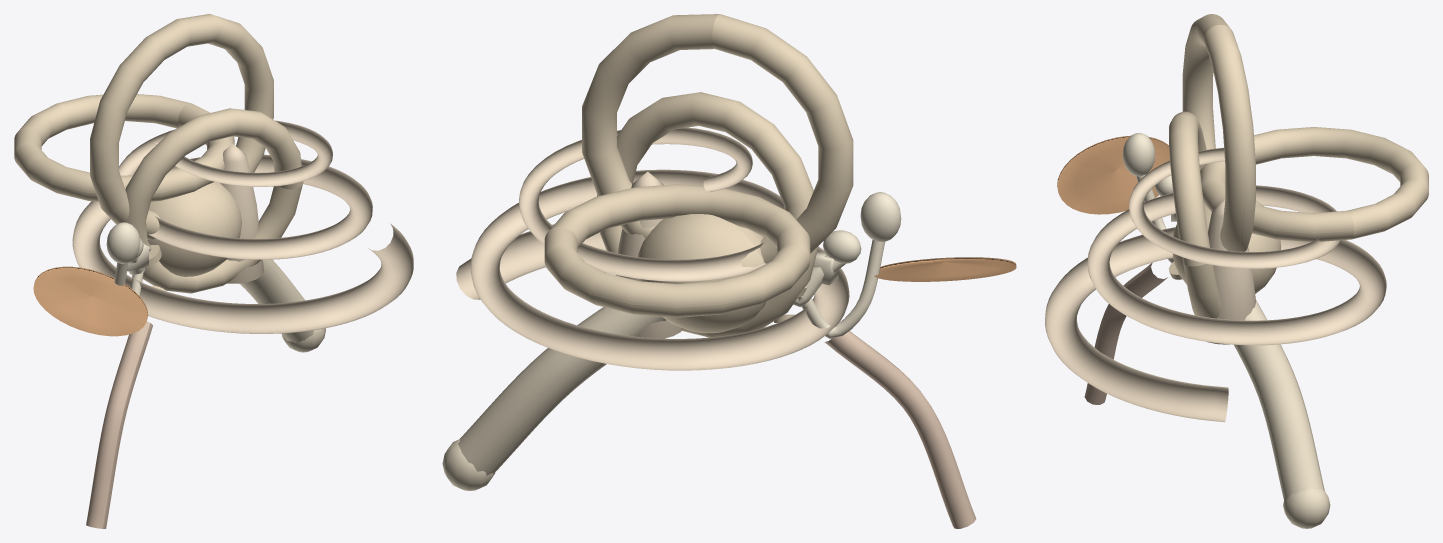
File: inner_ear.glb
3 renders of one model, left to right at view 1: azimuth 30°, elevation 25°; view 2: azimuth 150°, elevation 25°; view 3: azimuth 270°, elevation 25°, orthographic. The views are drawn at different scales.
Parts seen in each view (by area): view 1: cochlea, anterior_canal, lateral_canal, posterior_canal, tympanic_membrane, vestibule, eustachian_tube, auditory_nerve, malleus, incus; view 2: cochlea, anterior_canal, posterior_canal, lateral_canal, auditory_nerve, vestibule, eustachian_tube, malleus, tympanic_membrane, incus; view 3: cochlea, posterior_canal, anterior_canal, auditory_nerve, lateral_canal, tympanic_membrane, eustachian_tube, malleus, vestibule.
Boxes of the visible parts, x1=… form: cochlea: x1=72, y1=120, x2=413, y2=333; anterior_canal: x1=90, y1=14, x2=273, y2=239; lateral_canal: x1=125, y1=108, x2=303, y2=293; posterior_canal: x1=14, y1=94, x2=234, y2=201; tympanic_membrane: x1=33, y1=266, x2=148, y2=336; vestibule: x1=147, y1=182, x2=241, y2=276; eustachian_tube: x1=86, y1=321, x2=152, y2=528; auditory_nerve: x1=239, y1=259, x2=325, y2=352; malleus: x1=106, y1=222, x2=143, y2=295; incus: x1=127, y1=238, x2=148, y2=275; cochlea: x1=456, y1=127, x2=849, y2=370; anterior_canal: x1=582, y1=14, x2=853, y2=263; posterior_canal: x1=544, y1=184, x2=810, y2=317; lateral_canal: x1=597, y1=92, x2=818, y2=337; auditory_nerve: x1=442, y1=307, x2=666, y2=490; vestibule: x1=638, y1=214, x2=766, y2=333; eustachian_tube: x1=824, y1=331, x2=976, y2=528; malleus: x1=801, y1=192, x2=901, y2=338; tympanic_membrane: x1=874, y1=257, x2=1016, y2=281; incus: x1=793, y1=230, x2=861, y2=306; cochlea: x1=1045, y1=147, x2=1386, y2=422; posterior_canal: x1=1200, y1=127, x2=1428, y2=241; anterior_canal: x1=1182, y1=14, x2=1255, y2=251; auditory_nerve: x1=1234, y1=300, x2=1330, y2=528; lateral_canal: x1=1169, y1=111, x2=1221, y2=318; tympanic_membrane: x1=1057, y1=135, x2=1169, y2=214; eustachian_tube: x1=1084, y1=262, x2=1167, y2=404; malleus: x1=1123, y1=133, x2=1173, y2=263; vestibule: x1=1172, y1=200, x2=1281, y2=293.
Size of the model in its own units: 1.34 by 1.36 by 1.05.
